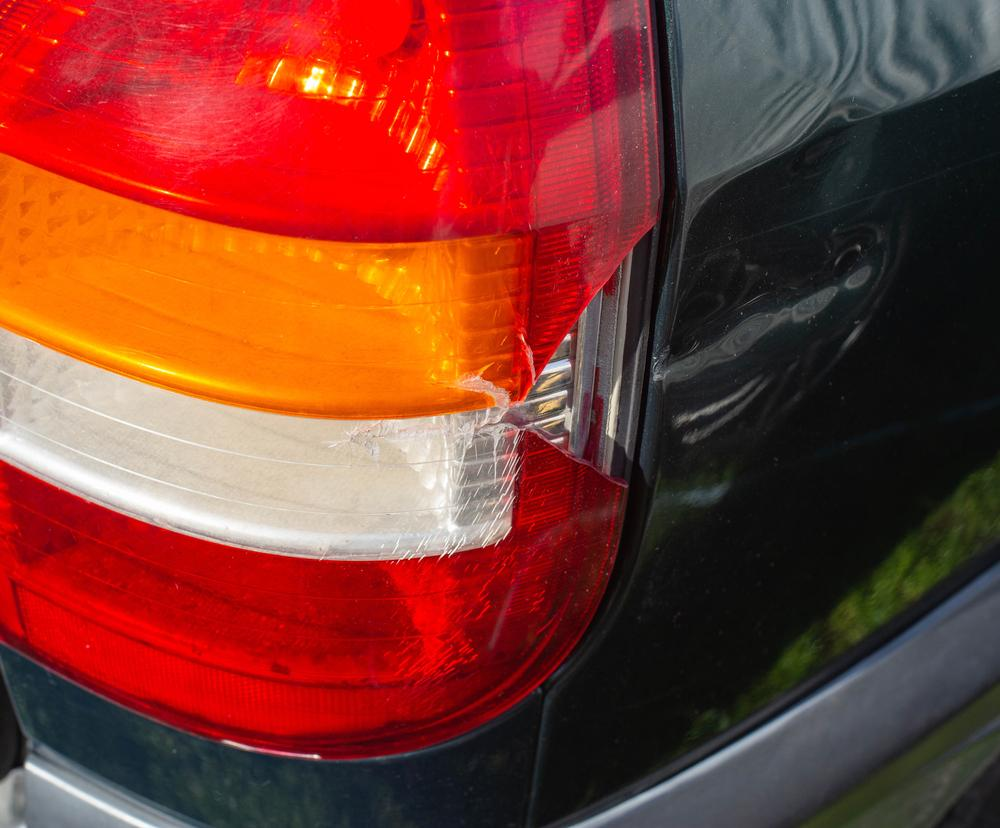dent: (659, 237, 889, 488)
lamp broken: (0, 0, 669, 760)
